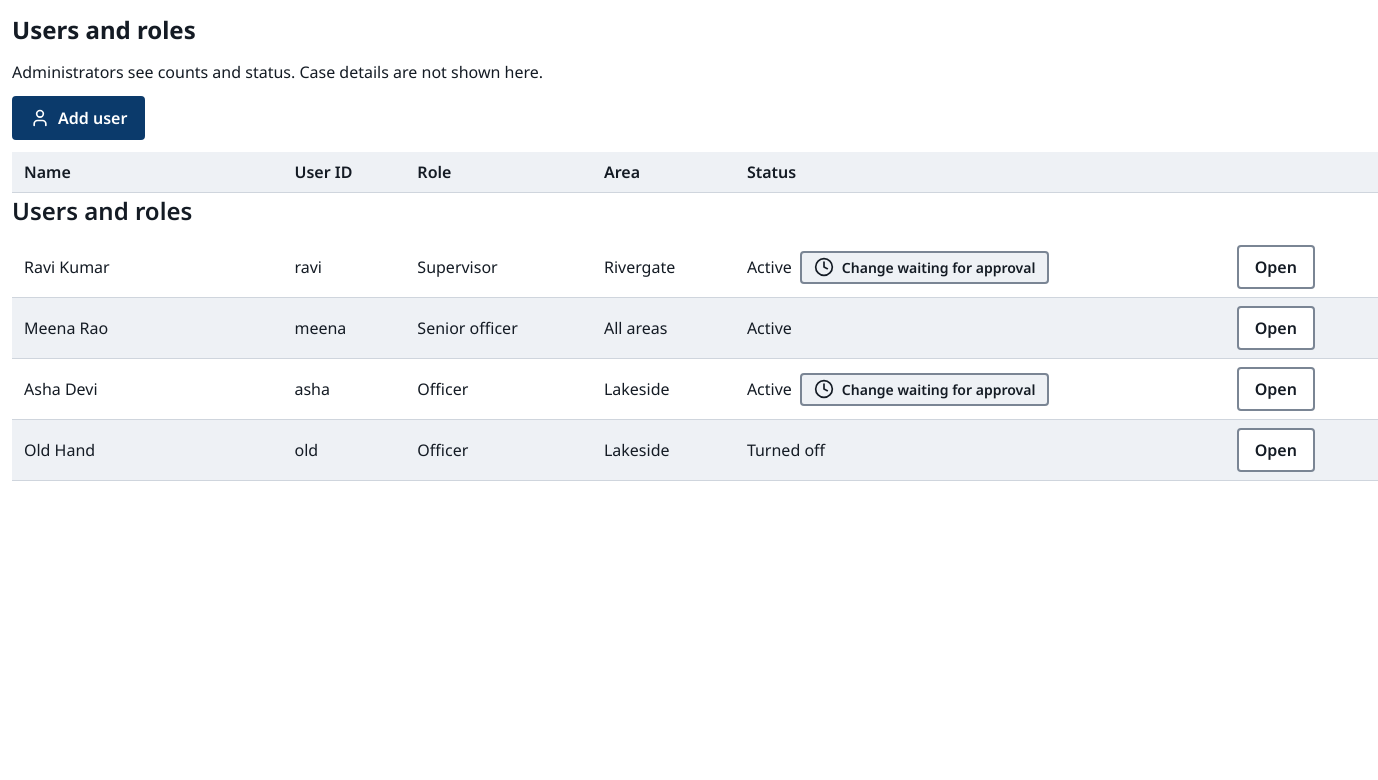
every waiting change shows its tag: the pending list is read to its end
The width and height of the screenshot is (1378, 780).
Expected: the text "Change waiting for approval" is shown once, [842, 378, 1035, 400]
Click the button "Open" in the row of "Asha Devi" at (1276, 389), box [1237, 367, 1315, 411]
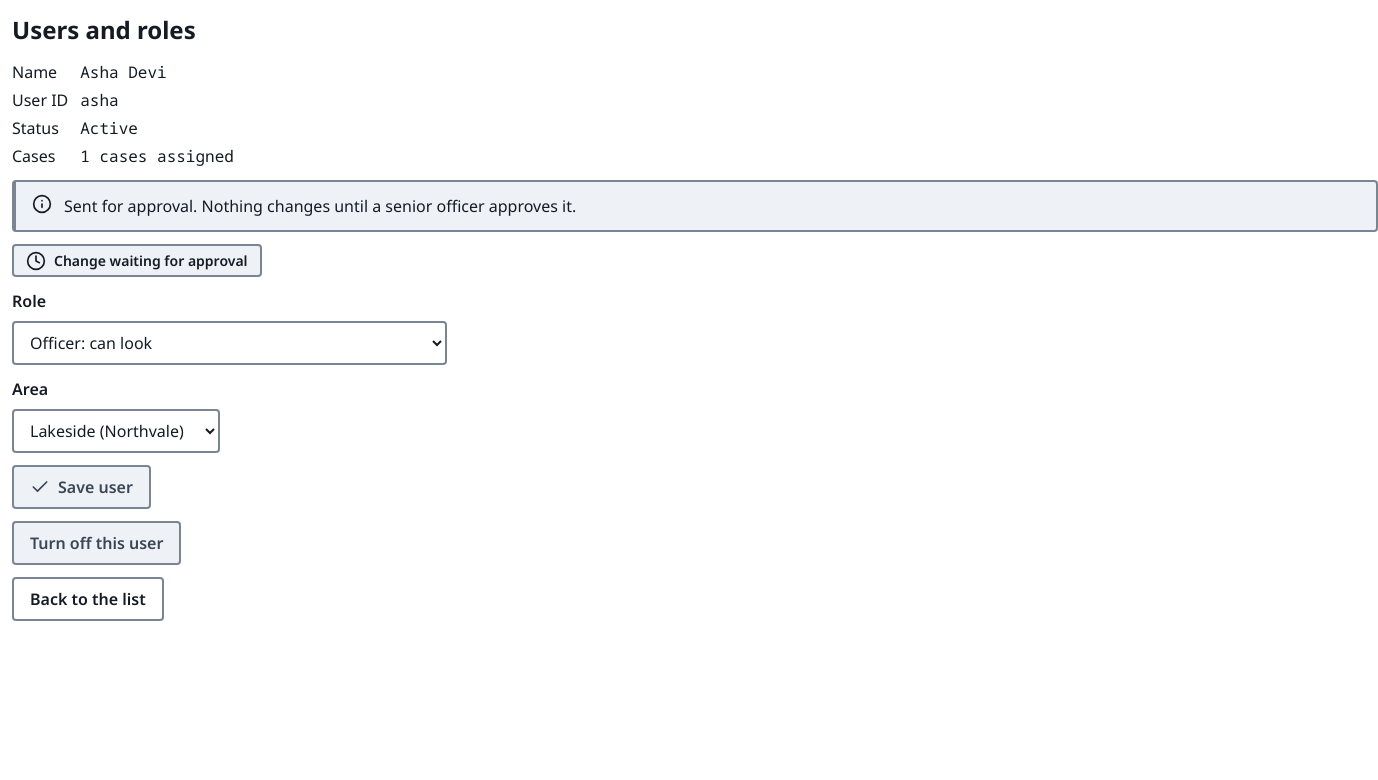
Expected: the button "Back to the list" is shown, [12, 577, 164, 621]
Expected: the button "Turn off this user" is disabled, [12, 521, 181, 565]
